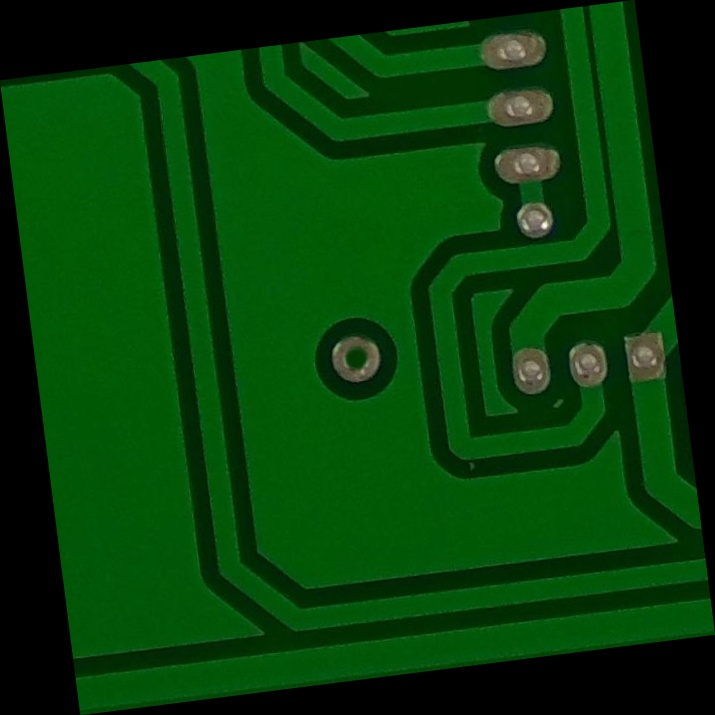missing_hole: (320, 322, 395, 393)
